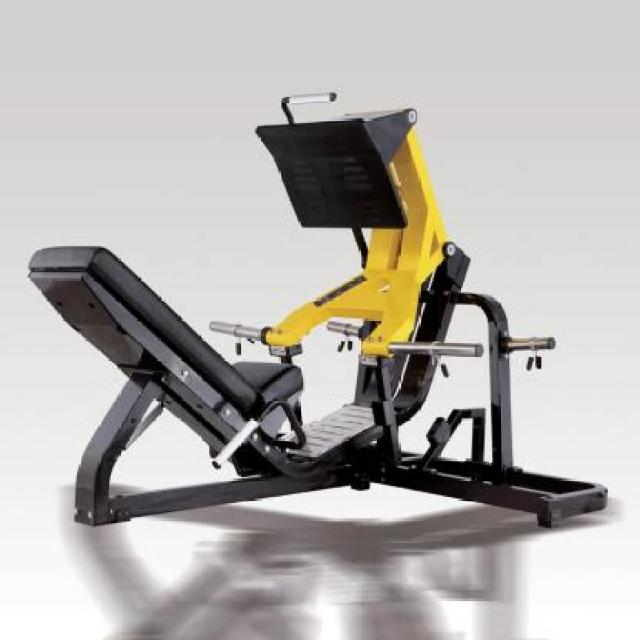leg press: (31, 83, 612, 566)
